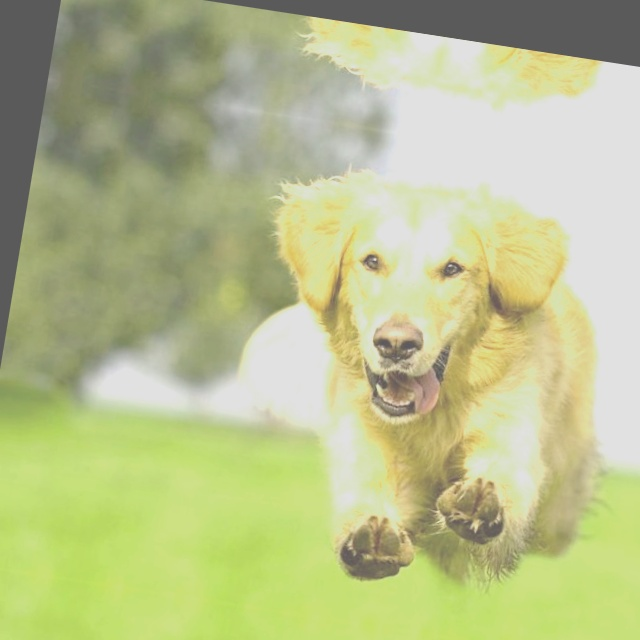dog: (227, 137, 640, 624), (305, 18, 640, 151)
